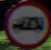Heavy Vehicles: (7, 5, 46, 42)
